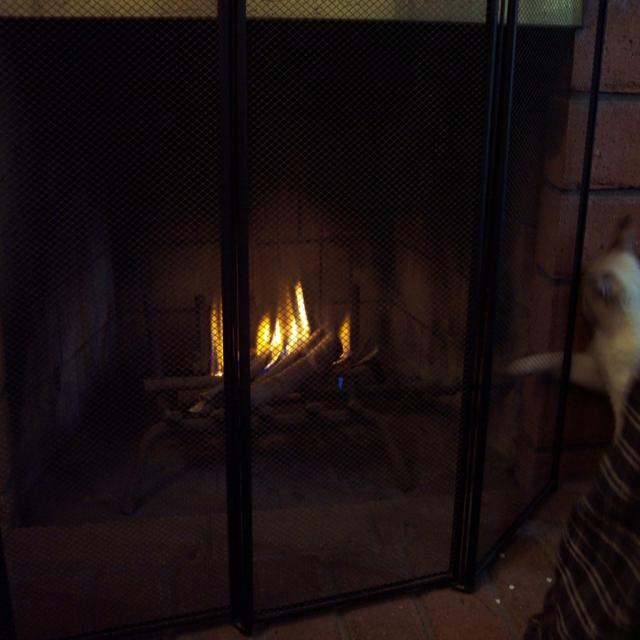fire: (198, 300, 322, 368)
